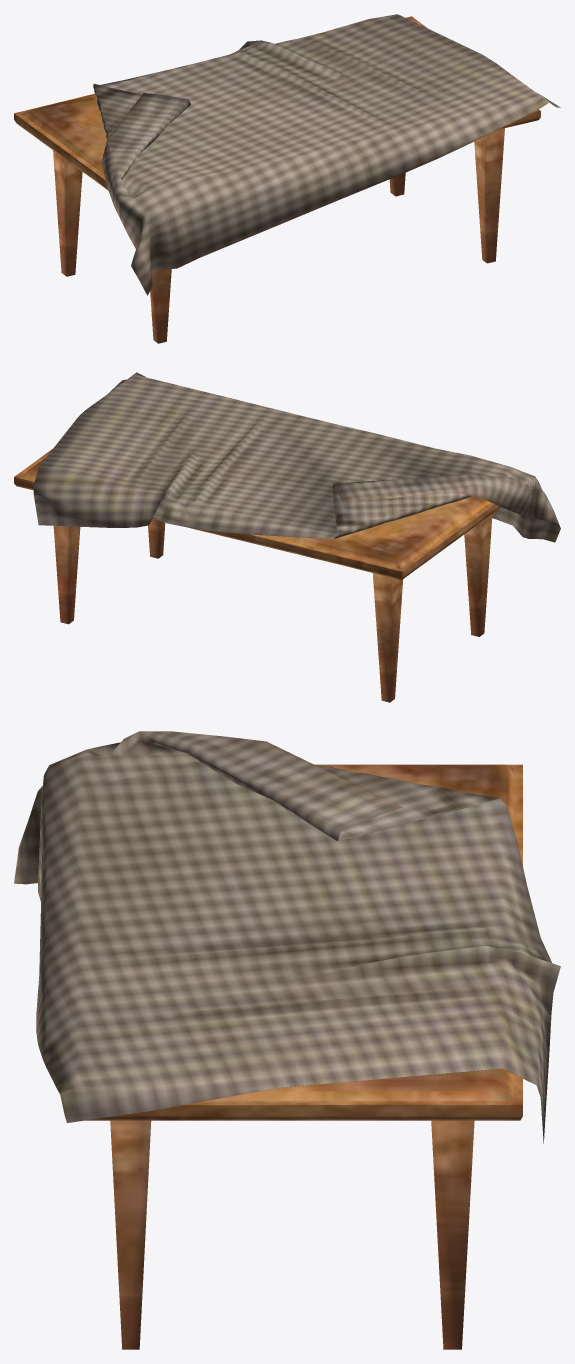
The model's file is table.glb.
The picture shows the model from 3 angles, top to bottom: view 1: azimuth 30°, elevation 25°; view 2: azimuth 150°, elevation 25°; view 3: azimuth 270°, elevation 25°; orthographic projection. The views are drawn at different scales.
Visible parts, largest first — view 1: dining_table_cloth, dining_table; view 2: dining_table_cloth, dining_table; view 3: dining_table_cloth, dining_table.
Boxes of the visible parts, x1,y1,x2,y2 form: dining_table_cloth: [93, 14, 560, 295]; dining_table: [14, 16, 540, 343]; dining_table_cloth: [33, 372, 560, 542]; dining_table: [14, 449, 501, 702]; dining_table_cloth: [14, 731, 560, 1143]; dining_table: [85, 764, 522, 1349].
Size of the model in its own units: 2.26 by 0.877 by 1.39.
Materials: 1 (1 with a texture image).
